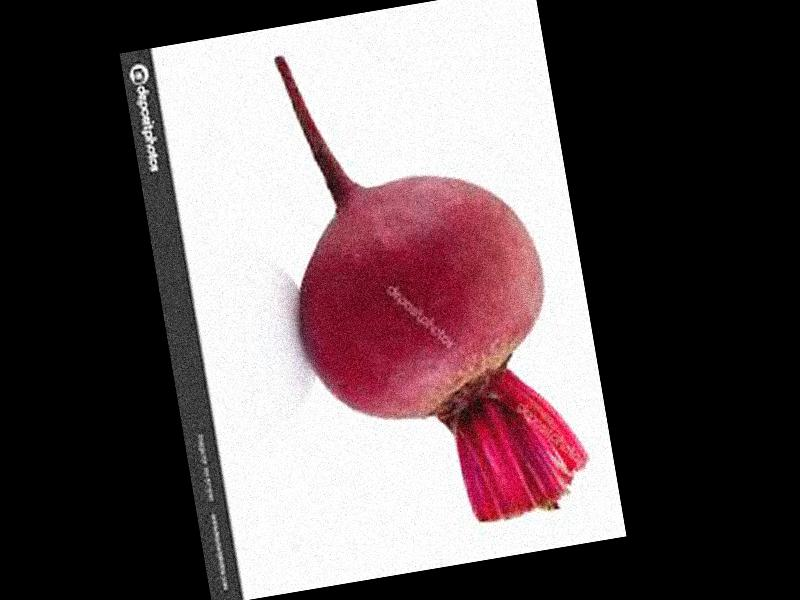Beet: (255, 17, 593, 548)
